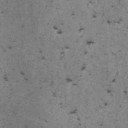oxide scale of temperature system: (38, 0, 124, 126), (104, 78, 128, 106), (3, 71, 29, 82), (44, 118, 48, 124), (8, 46, 13, 50), (0, 10, 4, 14)
